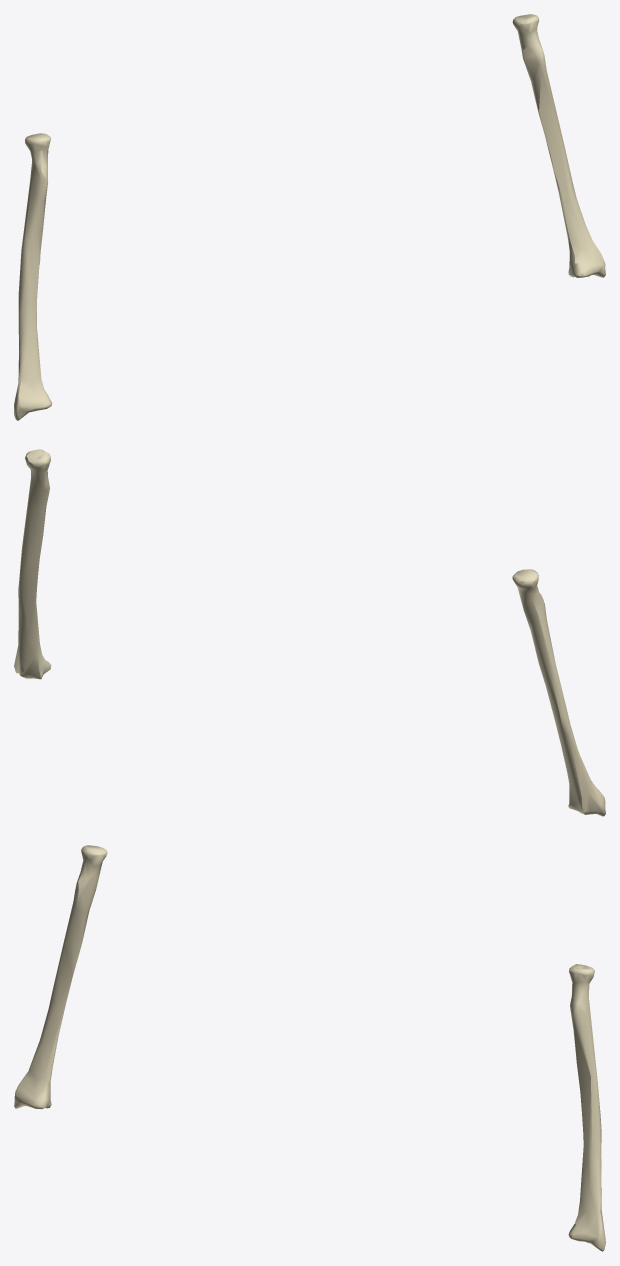
The model's file is radius.glb.
The picture shows the model from 3 angles, top to bottom: view 1: azimuth 30°, elevation 25°; view 2: azimuth 150°, elevation 25°; view 3: azimuth 330°, elevation 25°; orthographic projection.
Visible parts, largest first — view 1: Radius; view 2: Radius; view 3: Radius.
Boxes of the visible parts, bbox=[...] form: Radius: bbox=[14, 14, 605, 420]; Radius: bbox=[14, 449, 605, 816]; Radius: bbox=[14, 845, 605, 1251].
Bounding box in the file's own units: 0.5585 × 0.2291 × 0.0661.
